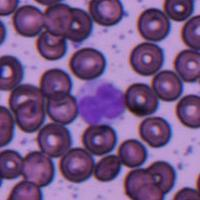M: (76, 78, 125, 125)
